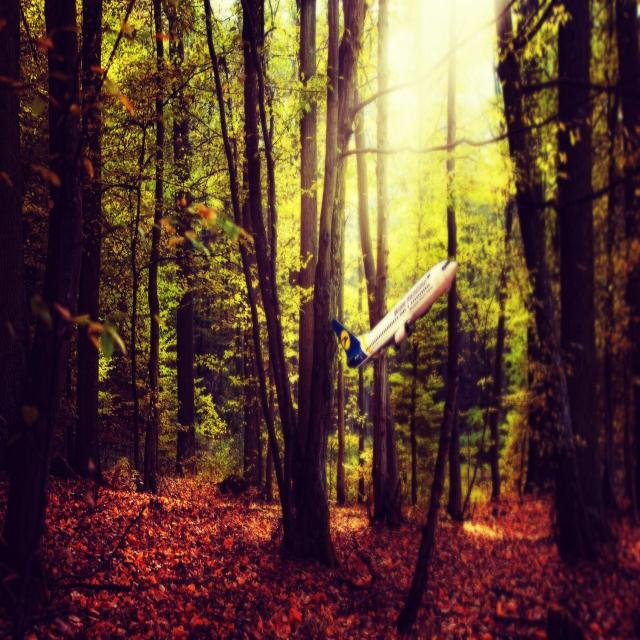airplane: (331, 257, 457, 369)
